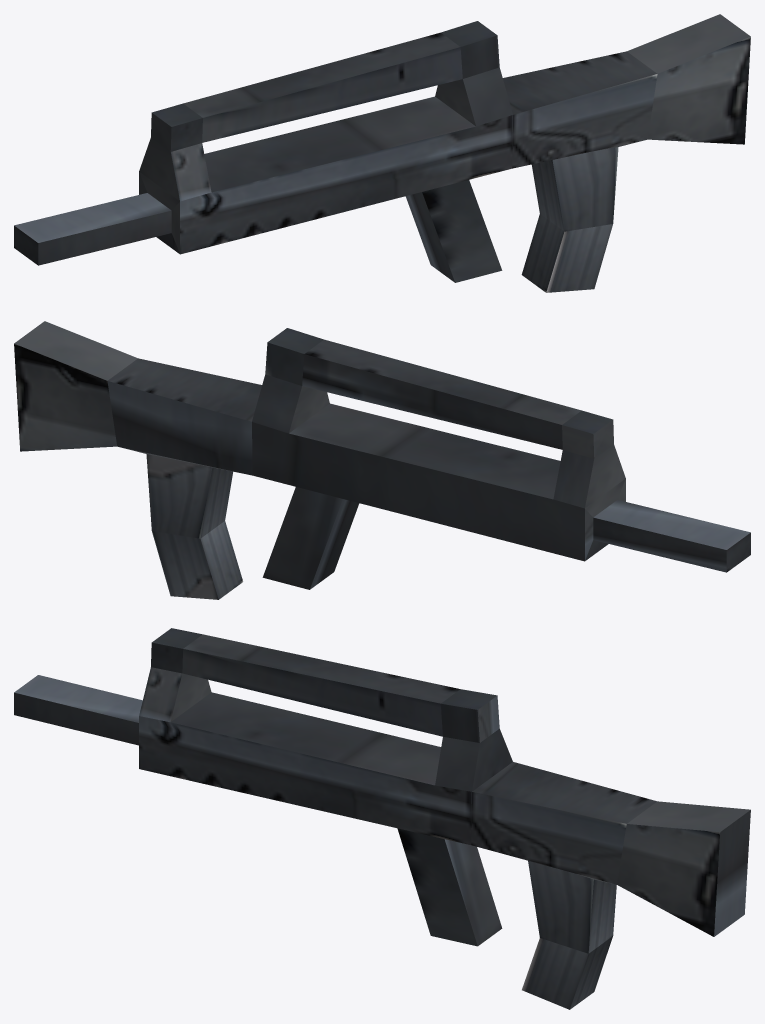
Rendered from famas 1.fbx.
The picture shows the model from 3 angles, top to bottom: view 1: azimuth 30°, elevation 25°; view 2: azimuth 150°, elevation 25°; view 3: azimuth 330°, elevation 25°; orthographic projection.
Parts seen in each view (by area): view 1: Cube; view 2: Cube; view 3: Cube.
Part boxes in pixels (x1,y1,x2,y2): Cube: (14, 14, 750, 292); Cube: (14, 321, 750, 599); Cube: (14, 628, 750, 1009).
Size of the model in its own units: 808 by 299 by 80.98.
